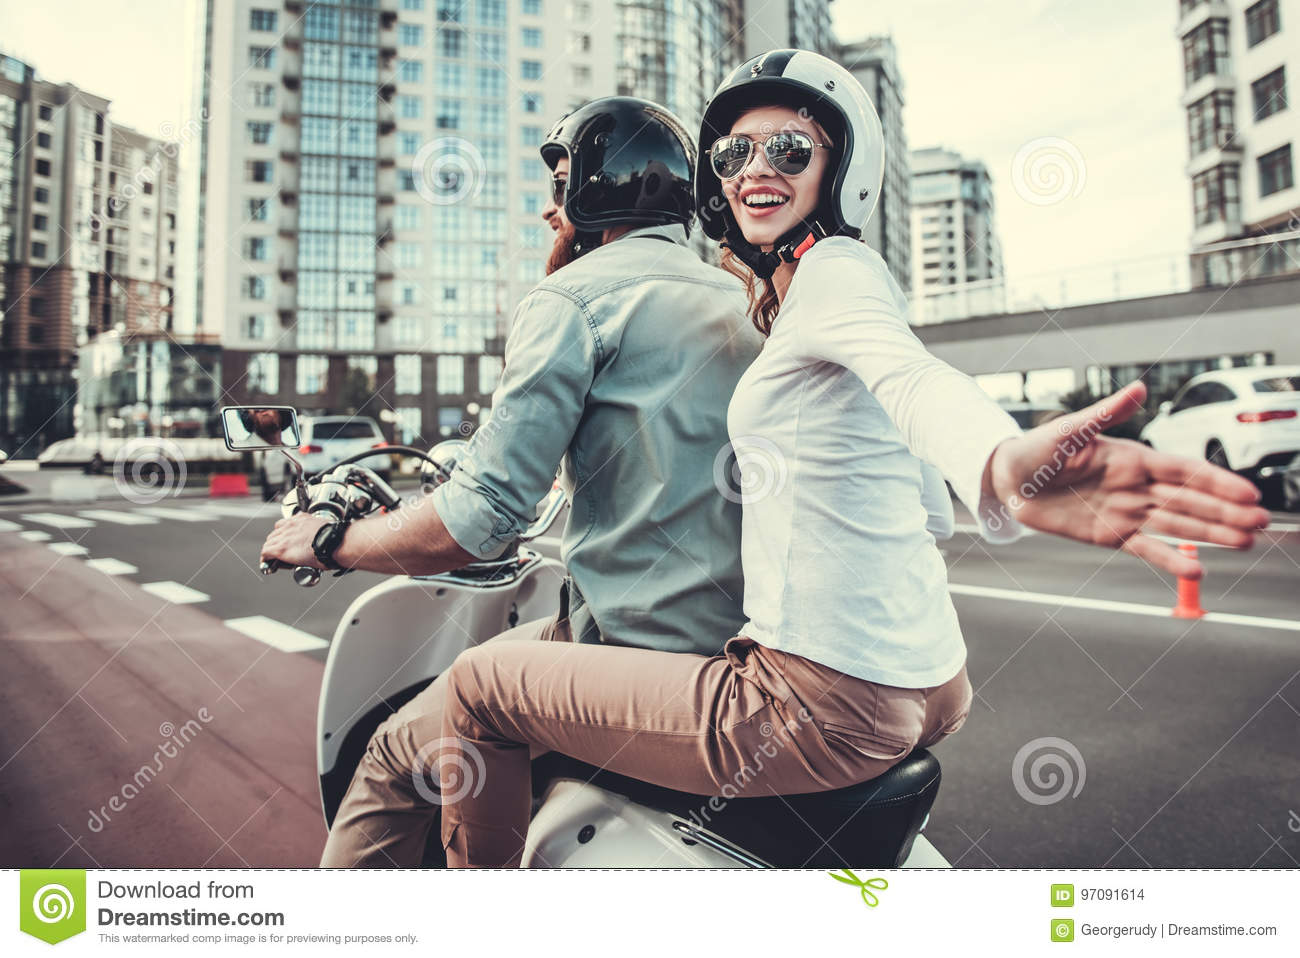helmet: (701, 42, 901, 241), (554, 96, 696, 230)
